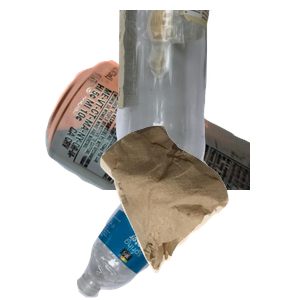glass: (113, 10, 300, 190)
metal: (43, 58, 283, 238)
plastic: (74, 156, 280, 300)
trash: (98, 123, 300, 300)
